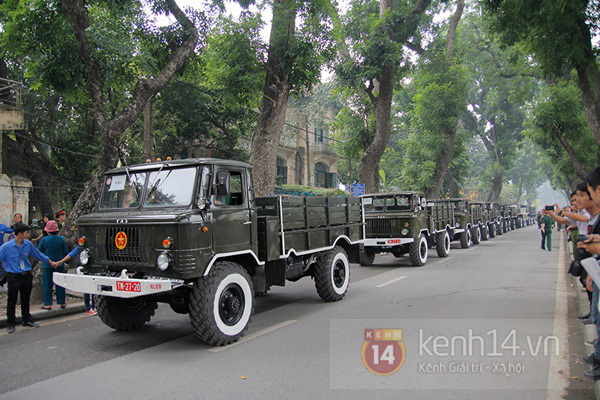plate: (114, 279, 146, 293)
